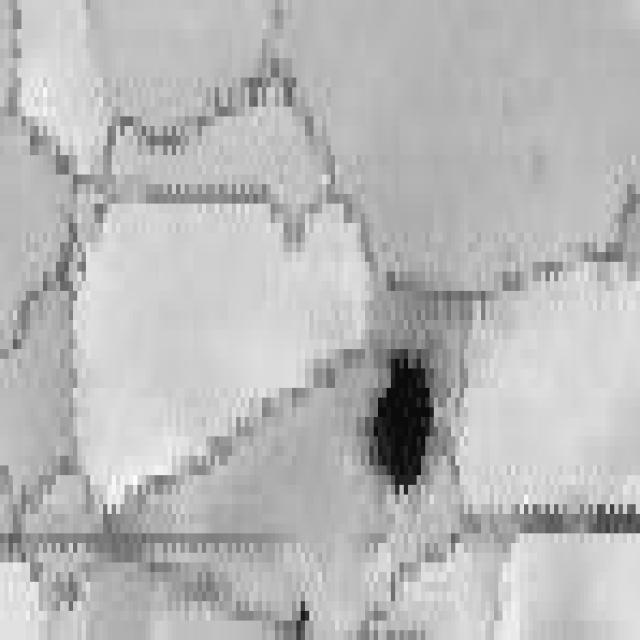good_void: (358, 336, 440, 507)
